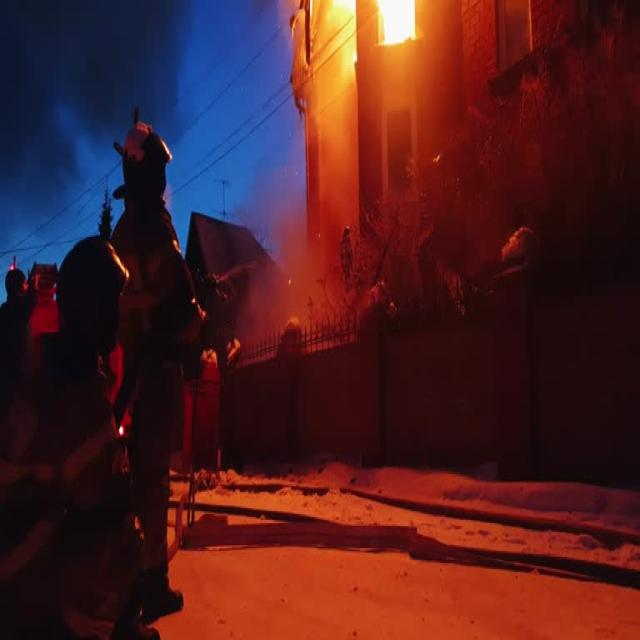fire: (376, 0, 416, 44)
